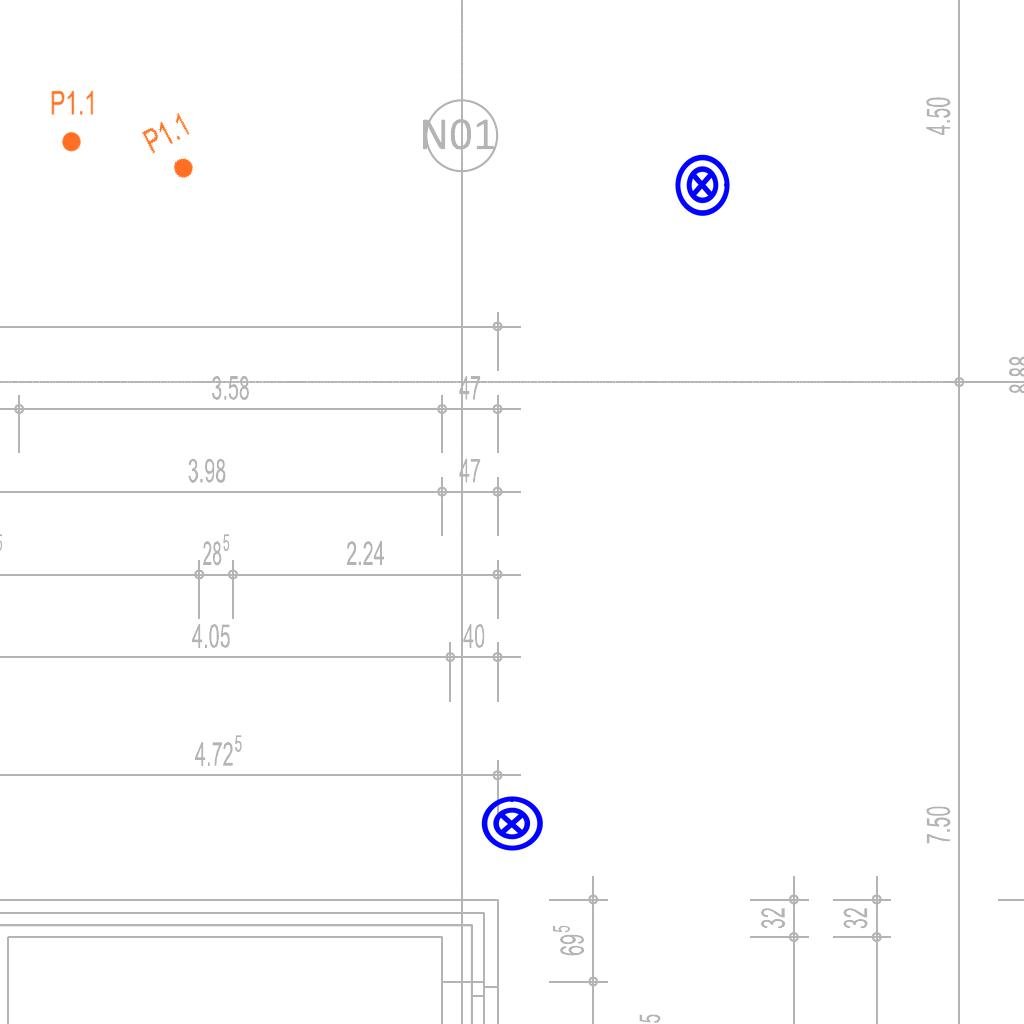Downlight_LED_Einbauleuchten_Flur: (139, 109, 211, 189), (50, 89, 96, 153)
Taster_beleuchtet: (669, 152, 735, 218), (479, 791, 545, 857)
